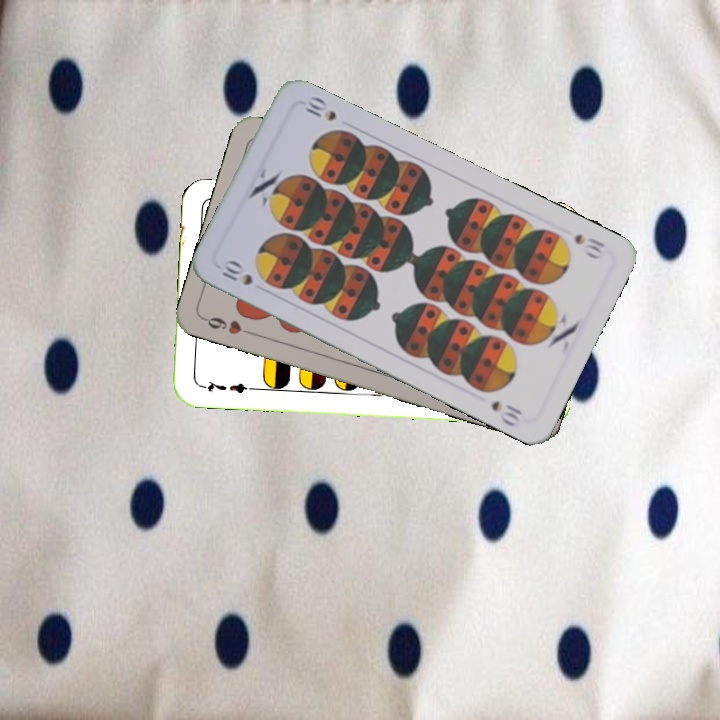E7: (197, 377, 256, 396)
H9: (199, 313, 257, 338)
S10: (217, 256, 256, 289), (570, 230, 607, 262)
